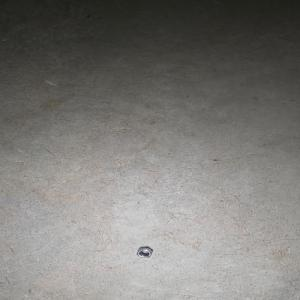Nut: (135, 247, 153, 258)
